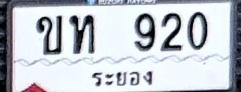0: (187, 11, 208, 50)
2: (161, 12, 182, 51)
9: (134, 12, 155, 51)
A02: (36, 14, 63, 54)
A23: (69, 14, 95, 54)
RYG: (90, 69, 154, 89)
